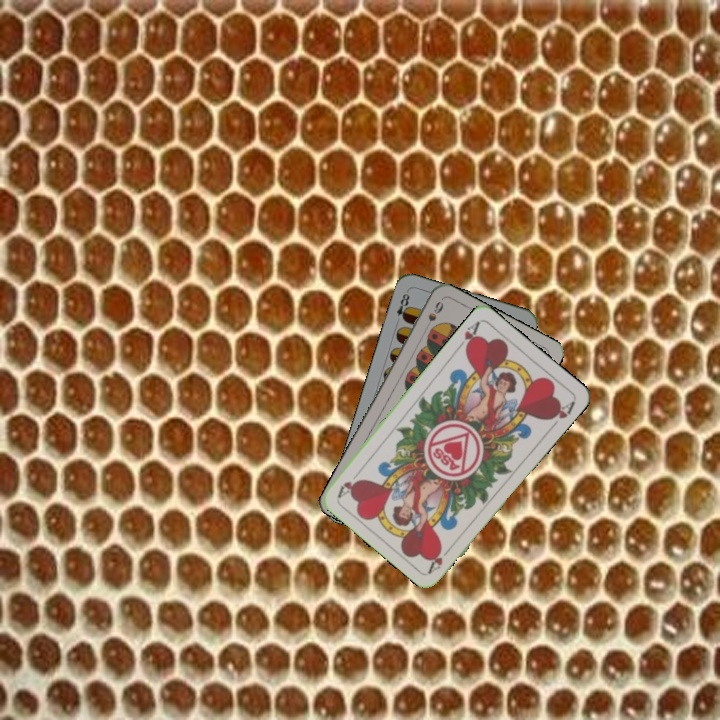E8: (392, 287, 412, 324)
HA: (424, 541, 456, 575), (453, 317, 482, 354)
S9: (420, 297, 446, 334)
